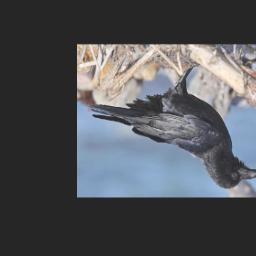Crow: (87, 61, 256, 189)
